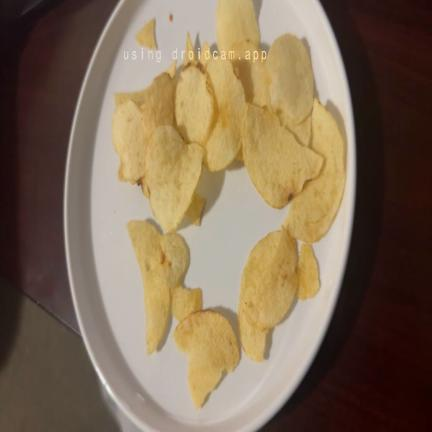chips: (127, 221, 201, 354), (284, 100, 345, 242), (243, 104, 322, 208), (113, 73, 174, 197), (174, 311, 239, 408), (145, 126, 202, 231), (243, 227, 298, 329), (238, 231, 280, 361), (204, 57, 245, 171), (266, 34, 313, 124), (115, 72, 174, 134), (175, 63, 213, 144), (112, 101, 146, 183), (144, 264, 170, 354), (216, 0, 259, 53), (231, 41, 266, 106), (142, 73, 174, 140), (127, 221, 162, 278), (161, 233, 190, 287), (298, 244, 319, 300), (279, 113, 311, 146), (172, 285, 202, 320), (136, 19, 156, 49), (187, 194, 205, 226), (184, 32, 195, 66), (199, 42, 212, 67), (167, 60, 177, 78), (141, 178, 149, 198), (236, 147, 243, 161)
plate: (65, 0, 355, 430)
